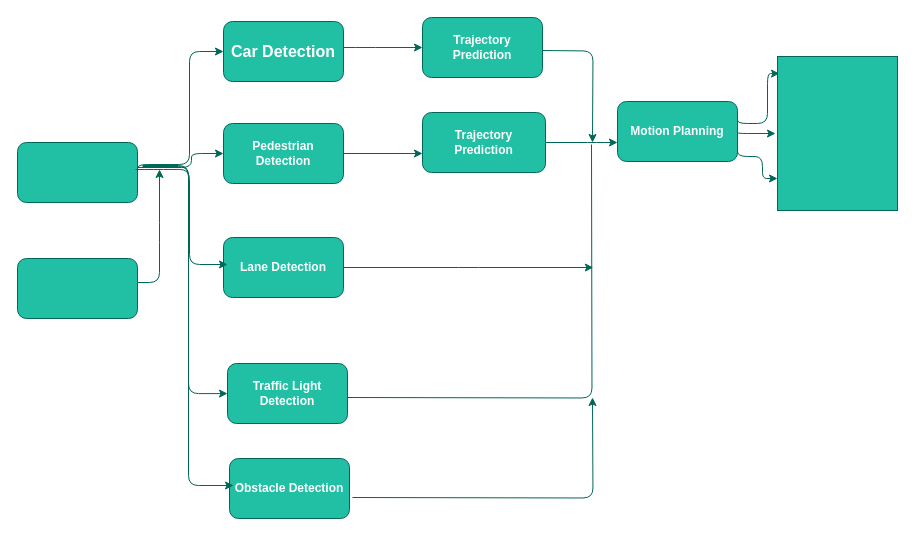
The diagram is 915 pixels wide and 536 high, and some of its shapes have lost their labels. Here are the shapes that lost their labels. From the top down, the box of each, then its label:
(776, 56, 898, 210): Steer Accelerate Break
(16, 142, 138, 202): Images/ radar
(16, 258, 138, 318): + GPS + Maps
